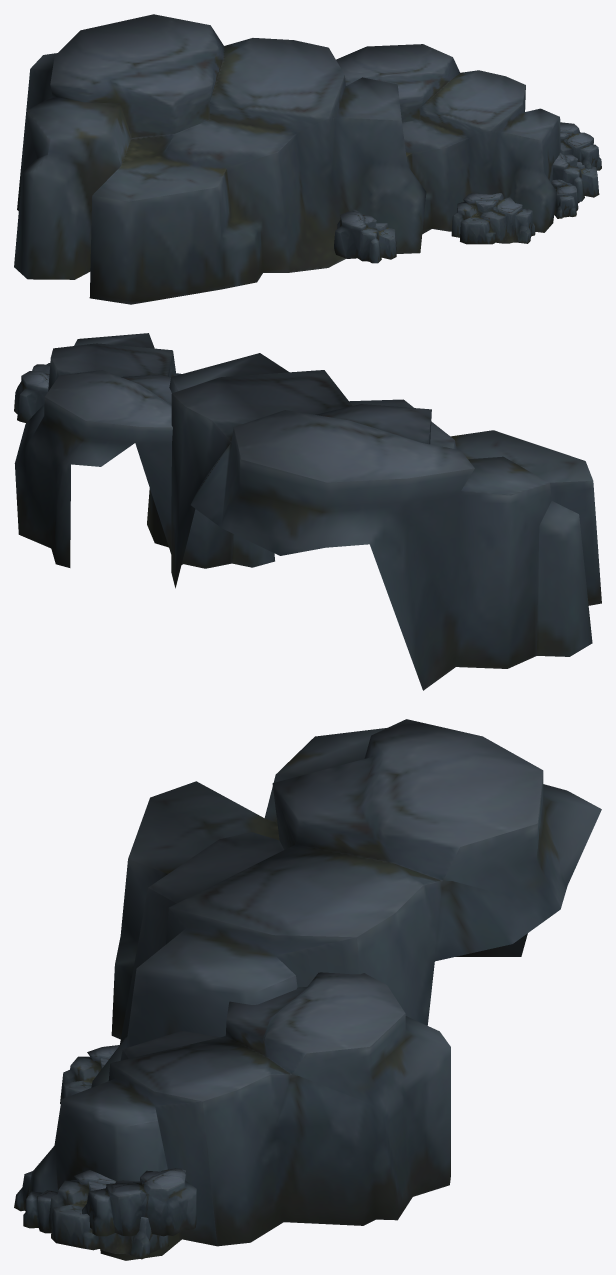
File: Area_06_1.fbx
The picture shows the model from 3 angles, top to bottom: view 1: azimuth 30°, elevation 25°; view 2: azimuth 150°, elevation 25°; view 3: azimuth 270°, elevation 25°; orthographic projection. The views are drawn at different scales.
Visible parts, largest first — view 1: Area_06_1; view 2: Area_06_1; view 3: Area_06_1.
Part boxes in pixels (box(x1,y1,x2,y2)): Area_06_1: box(14, 14, 601, 304); Area_06_1: box(14, 333, 601, 690); Area_06_1: box(14, 719, 601, 1260).
Size of the model in its own units: 8399 by 2446 by 5448.
